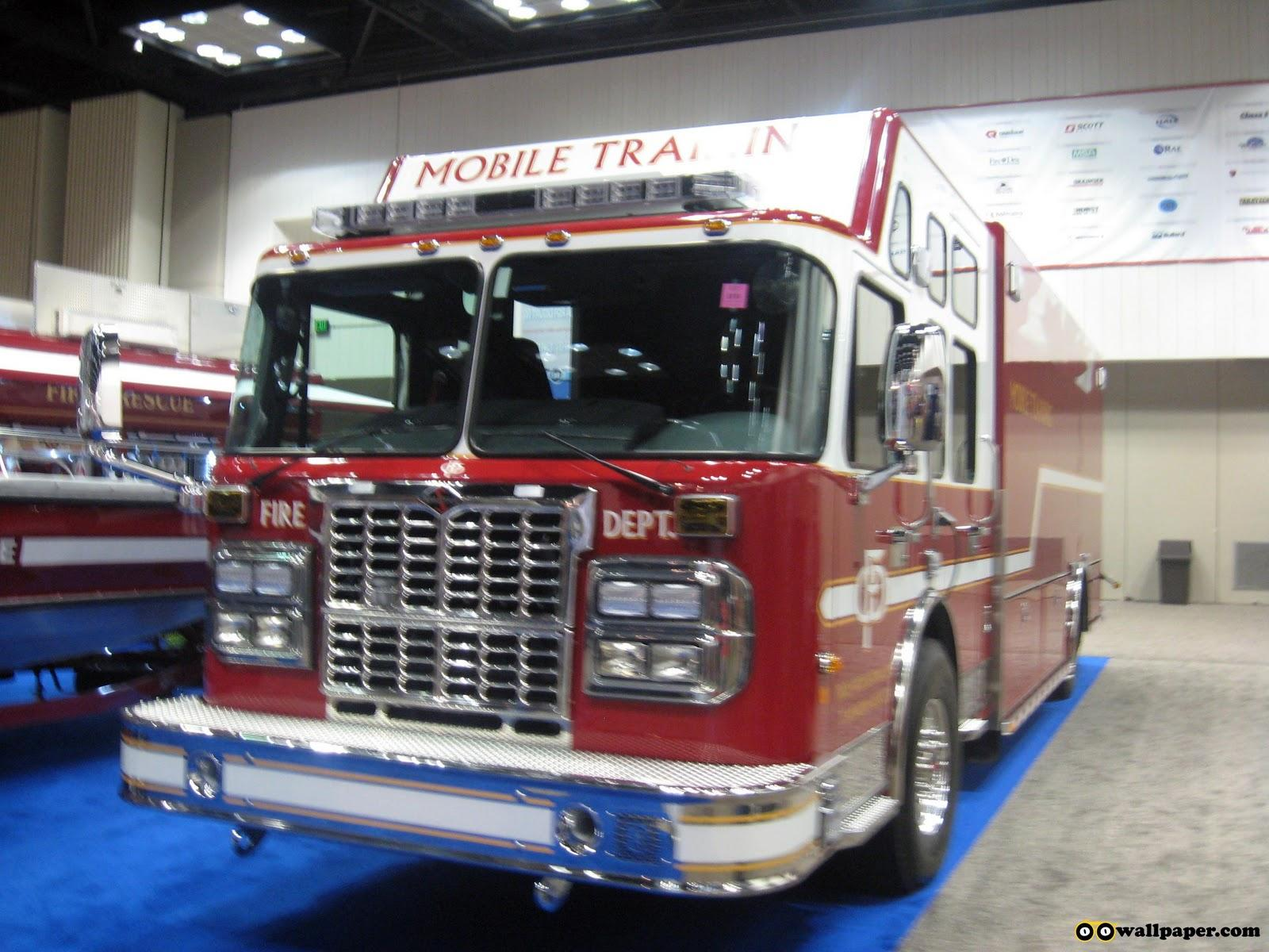Fire-engine: (114, 104, 1110, 912), (0, 320, 396, 728)
